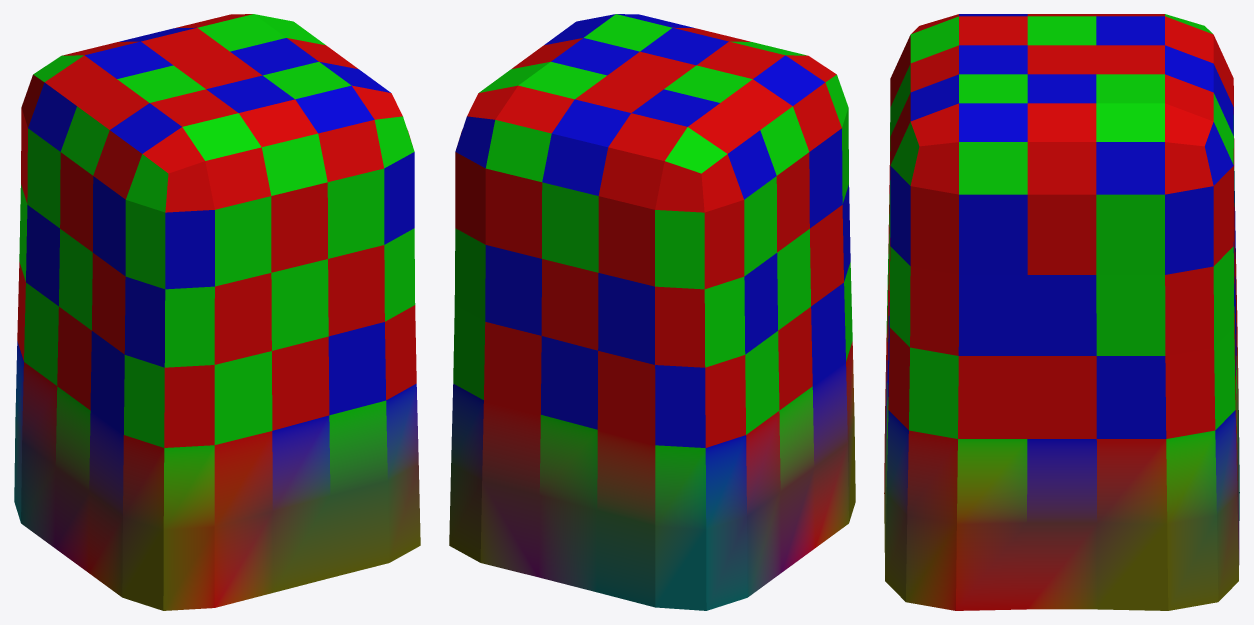
File: Bush_A_03.fbx
3 renders of one model, left to right at view 1: azimuth 30°, elevation 25°; view 2: azimuth 150°, elevation 25°; view 3: azimuth 270°, elevation 25°, orthographic. The views are drawn at different scales.
Visible parts, largest first — view 1: Bush_A_03; view 2: Bush_A_03; view 3: Bush_A_03.
Boxes of the visible parts, <box> form: Bush_A_03: <box>14,14,420,610</box>; Bush_A_03: <box>449,14,855,610</box>; Bush_A_03: <box>884,14,1239,610</box>.
Size of the model in its own units: 1.1 by 1.64 by 1.1.
